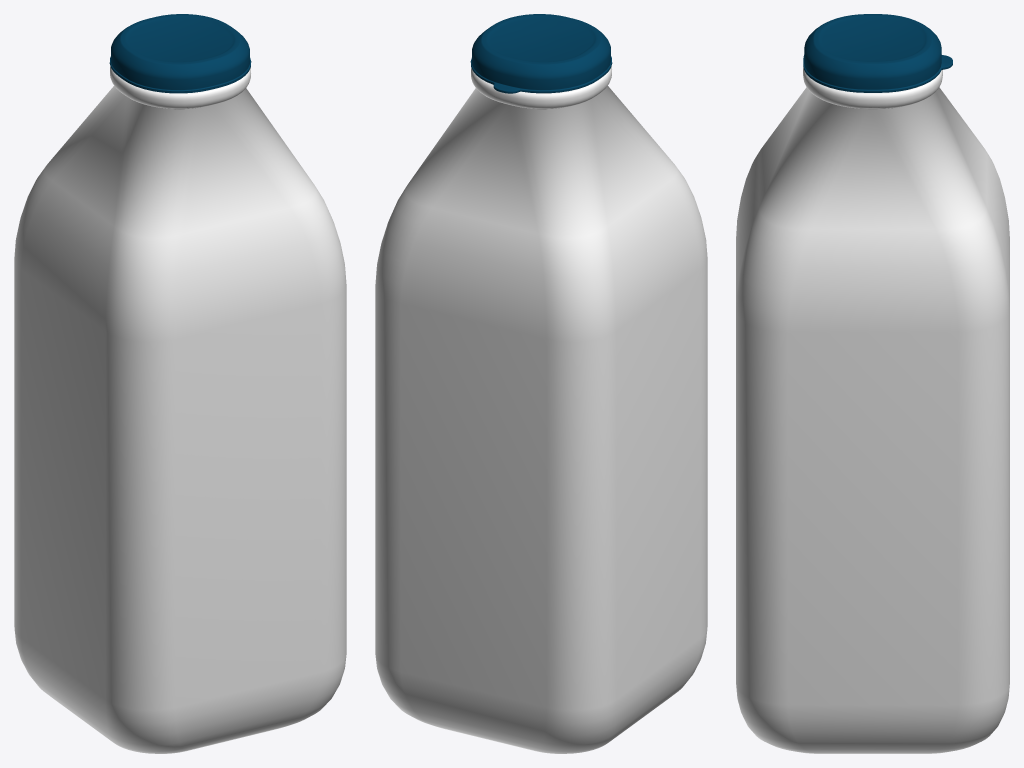
File: Milk Quart.fbx
3 views of the same model, side by side, from view 1: azimuth 30°, elevation 25°; view 2: azimuth 150°, elevation 25°; view 3: azimuth 270°, elevation 25° (orthographic).
Visible parts, largest first — view 1: Quart, BottleCap.001; view 2: Quart, BottleCap.001; view 3: Quart, BottleCap.001.
Boxes of the visible parts, bbox=[...] form: Quart: bbox=[14, 66, 346, 753]; BottleCap.001: bbox=[109, 14, 251, 93]; Quart: bbox=[375, 66, 707, 753]; BottleCap.001: bbox=[470, 14, 612, 93]; Quart: bbox=[736, 67, 1009, 753]; BottleCap.001: bbox=[803, 14, 952, 92].
Size of the model in its own units: 8.89 by 24.02 by 8.89.
